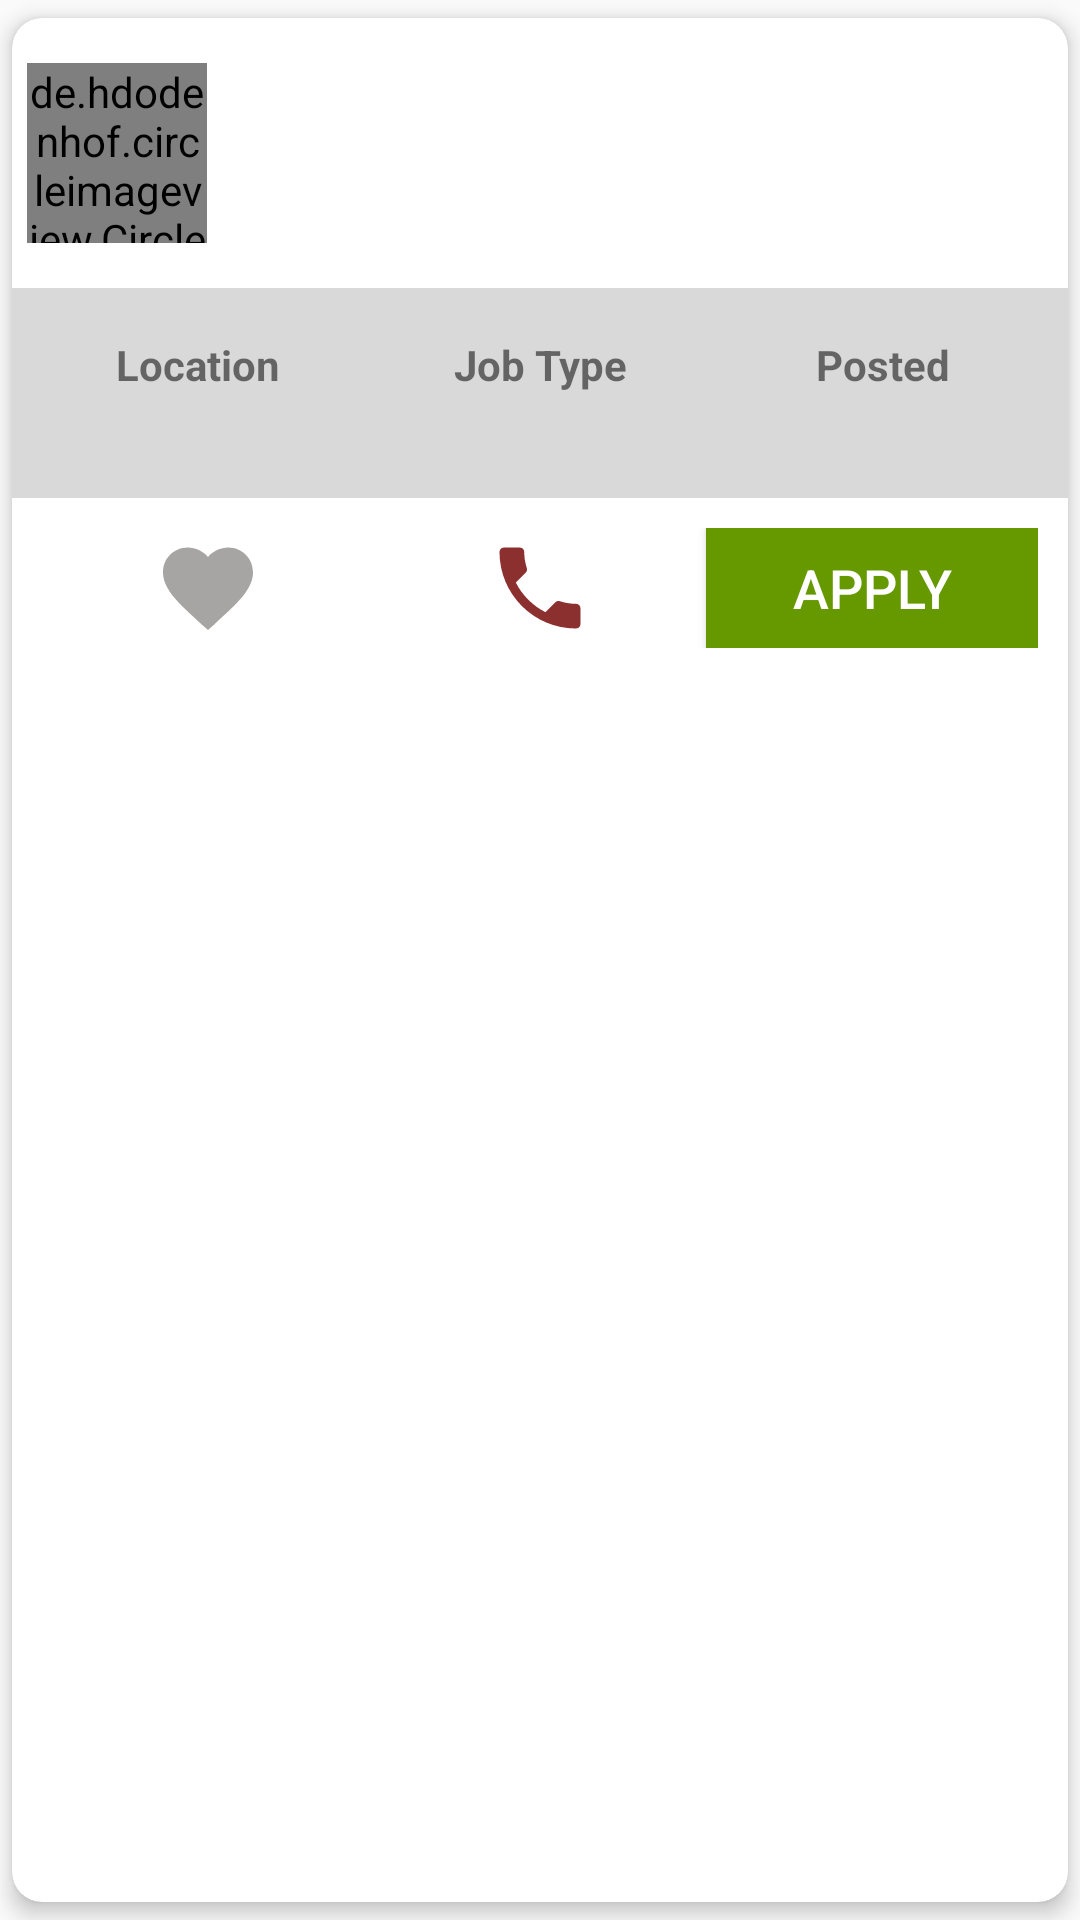

Named icons in this screenshot (1080x1920) and their centers, point (x, y):
favorite: point (208, 588)
phone: point (540, 588)
